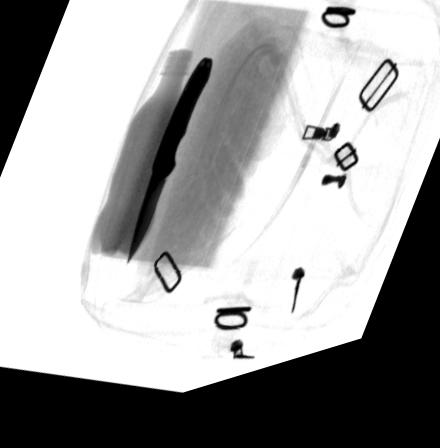Knife: (124, 68, 212, 276)
